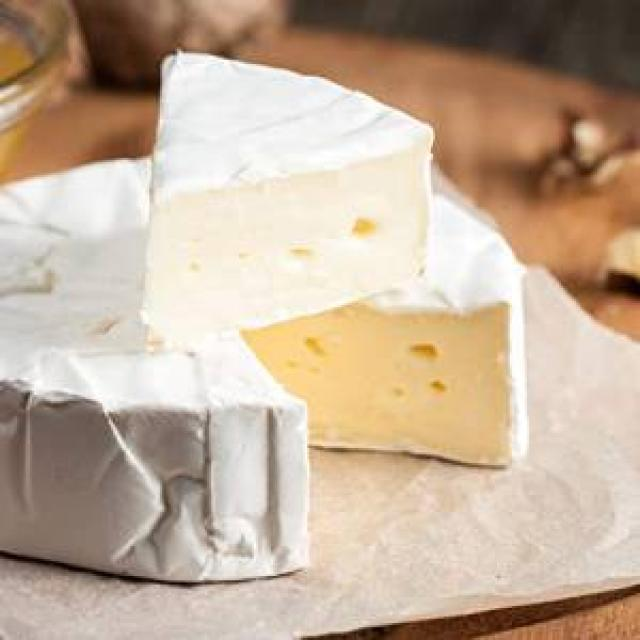Cheese: (0, 145, 516, 460), (0, 132, 351, 592), (135, 36, 441, 357)
